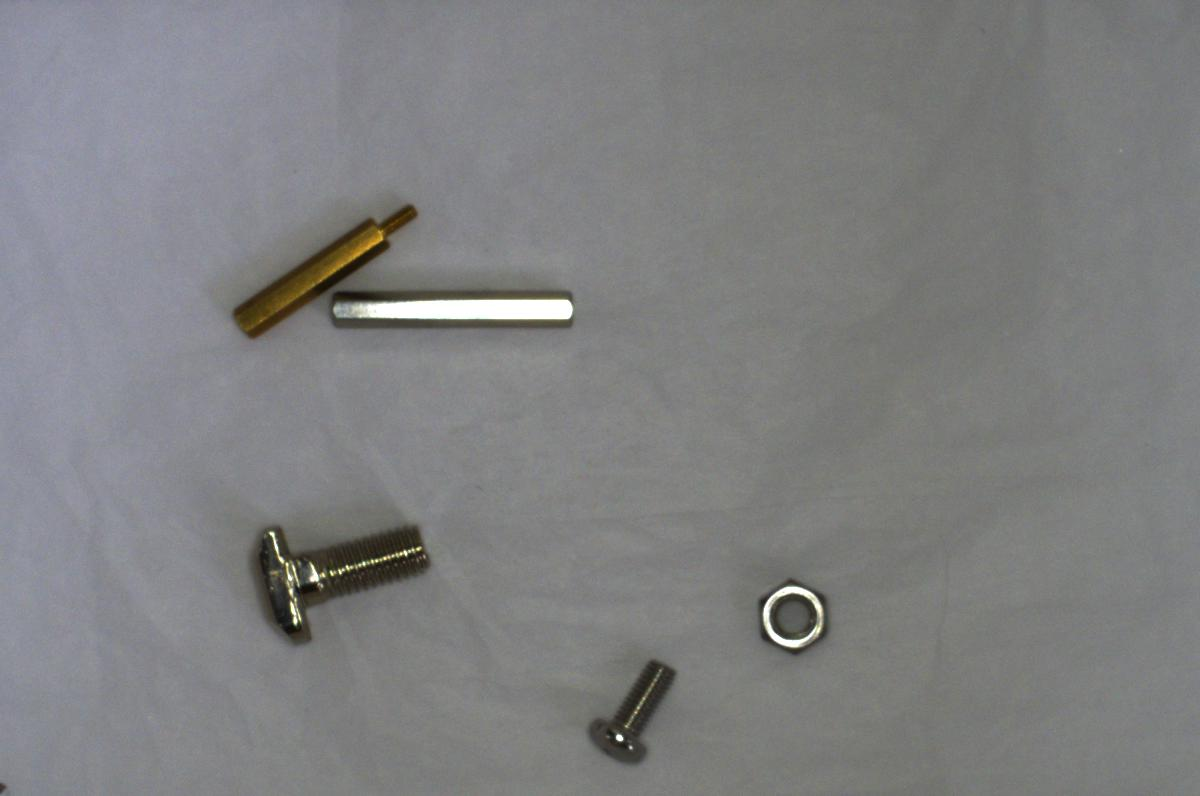Double hexagonal column: (318, 279, 587, 342)
Hexagon nut: (751, 575, 826, 653)
Hexagon pillar: (227, 195, 421, 341)
Round head screw: (580, 652, 681, 762)
T-shaped screw: (244, 512, 450, 656)
